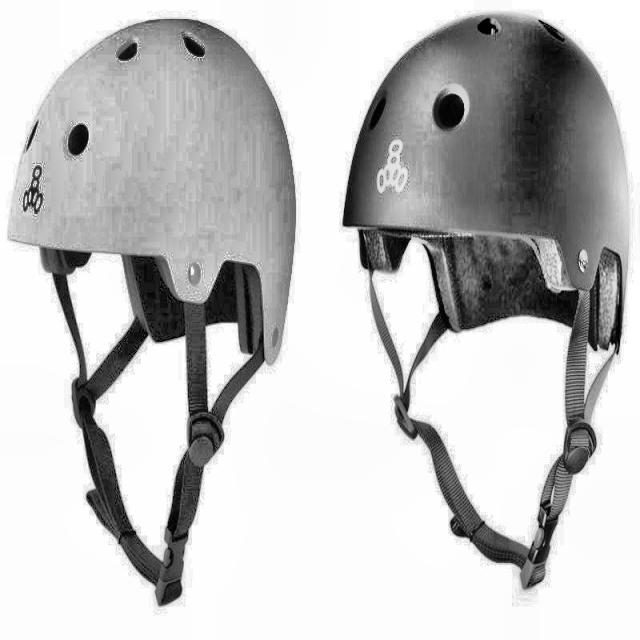Helmet: (6, 14, 298, 619), (342, 11, 632, 608)
